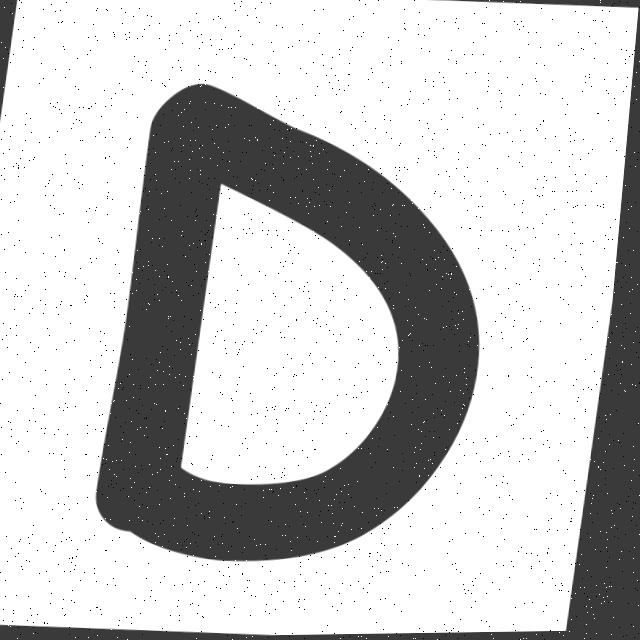D: (105, 85, 486, 561)
